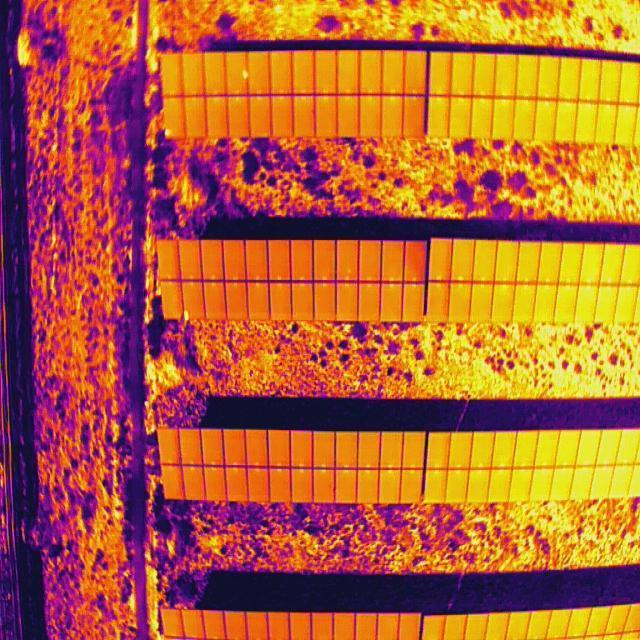hotspot: (242, 68, 250, 80), (183, 308, 190, 321)
